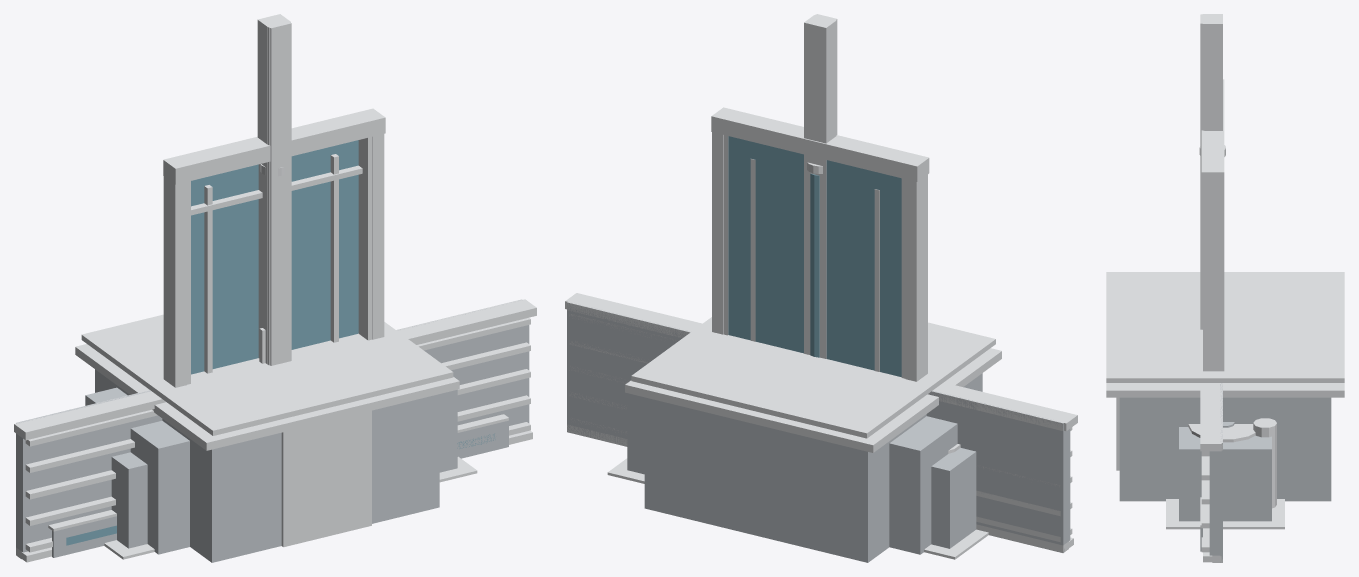
The model's file is office-kit.glb.
3 renders of one model, left to right at view 1: azimuth 30°, elevation 25°; view 2: azimuth 150°, elevation 25°; view 3: azimuth 270°, elevation 25°, orthographic. The views are drawn at different scales.
Parts seen in each view (by area): view 1: roof_lift_overrun_02__cap, roof_stair_core_05__core, entrance_portal_03__pane, ribbon_fascia_03__fascia, roof_stair_core_05__door, entrance_revolving_01__side.001, entrance_revolving_01__side, roof_lift_overrun_02__door, bay_blade_02__flange, roof_plant_mixed_04__unit, roof_stair_core_05__slab, roof_lift_overrun_02__overrun (+26 smaller); view 2: roof_lift_overrun_02__overrun, entrance_glazed_pair_02__pane, roof_lift_overrun_02__cap, ribbon_fascia_03__fascia, entrance_portal_03__pane, ribbon_louvre_02__plate, roof_plant_mixed_04__unit, entrance_portal_03__head, roof_stair_core_05__slab, entrance_revolving_01__side, entrance_portal_03__post, roof_stair_core_05__core (+17 smaller); view 3: roof_lift_overrun_02__cap, roof_stair_core_05__core, roof_cooling_row_01__unit.002, entrance_portal_03__post.001, roof_stair_core_05__slab, bay_twin_03__post.001, entrance_portal_03__head, ribbon_fascia_03__fascia, roof_cooling_row_01__rack, ribbon_fascia_03__cap, bay_blade_02__blade_edge.001, roof_plant_mixed_04__stack2 (+5 smaller).
Boxes of the visible parts, x1,y1,x2,y2 form: roof_lift_overrun_02__cap: [81, 314, 453, 435]; roof_stair_core_05__core: [95, 369, 439, 562]; entrance_portal_03__pane: [191, 175, 358, 374]; ribbon_fascia_03__fascia: [16, 325, 529, 552]; roof_stair_core_05__door: [281, 420, 371, 546]; entrance_revolving_01__side.001: [291, 152, 357, 349]; entrance_revolving_01__side: [191, 174, 251, 373]; roof_lift_overrun_02__door: [281, 410, 371, 547]; bay_blade_02__flange: [270, 23, 291, 365]; roof_plant_mixed_04__unit: [85, 387, 189, 554]; roof_stair_core_05__slab: [75, 344, 459, 450]; roof_lift_overrun_02__overrun: [218, 399, 433, 523]; roof_lift_overrun_02__overrun: [651, 399, 861, 561]; entrance_glazed_pair_02__pane: [728, 147, 901, 376]; roof_lift_overrun_02__cap: [631, 317, 995, 438]; ribbon_fascia_03__fascia: [567, 310, 1070, 545]; entrance_portal_03__pane: [728, 179, 901, 375]; ribbon_louvre_02__plate: [567, 302, 1064, 552]; roof_plant_mixed_04__unit: [889, 416, 957, 554]; entrance_portal_03__head: [711, 107, 929, 181]; roof_stair_core_05__slab: [625, 348, 1001, 452]; entrance_revolving_01__side: [833, 179, 901, 349]; entrance_portal_03__post: [905, 168, 927, 381]; roof_stair_core_05__core: [644, 373, 982, 562]; roof_lift_overrun_02__cap: [1106, 272, 1344, 382]; roof_stair_core_05__core: [1119, 397, 1331, 501]; roof_cooling_row_01__unit.002: [1179, 427, 1271, 521]; entrance_portal_03__post.001: [1203, 186, 1224, 371]; roof_stair_core_05__slab: [1106, 383, 1344, 397]; bay_twin_03__post.001: [1204, 22, 1222, 130]; entrance_portal_03__head: [1201, 79, 1224, 186]; ribbon_fascia_03__fascia: [1209, 450, 1222, 555]; roof_cooling_row_01__rack: [1166, 499, 1284, 529]; ribbon_fascia_03__cap: [1200, 383, 1221, 451]; bay_blade_02__blade_edge.001: [1200, 21, 1209, 329]; roof_plant_mixed_04__stack2: [1253, 418, 1276, 508].
Size of the model in its own units: 4.04 by 3.6 by 1.8.
